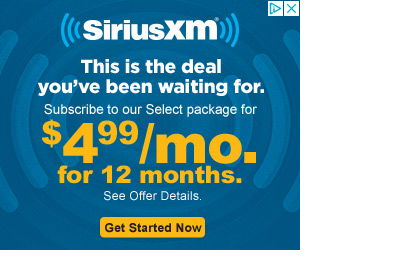fake_button: (97, 213, 210, 243)
